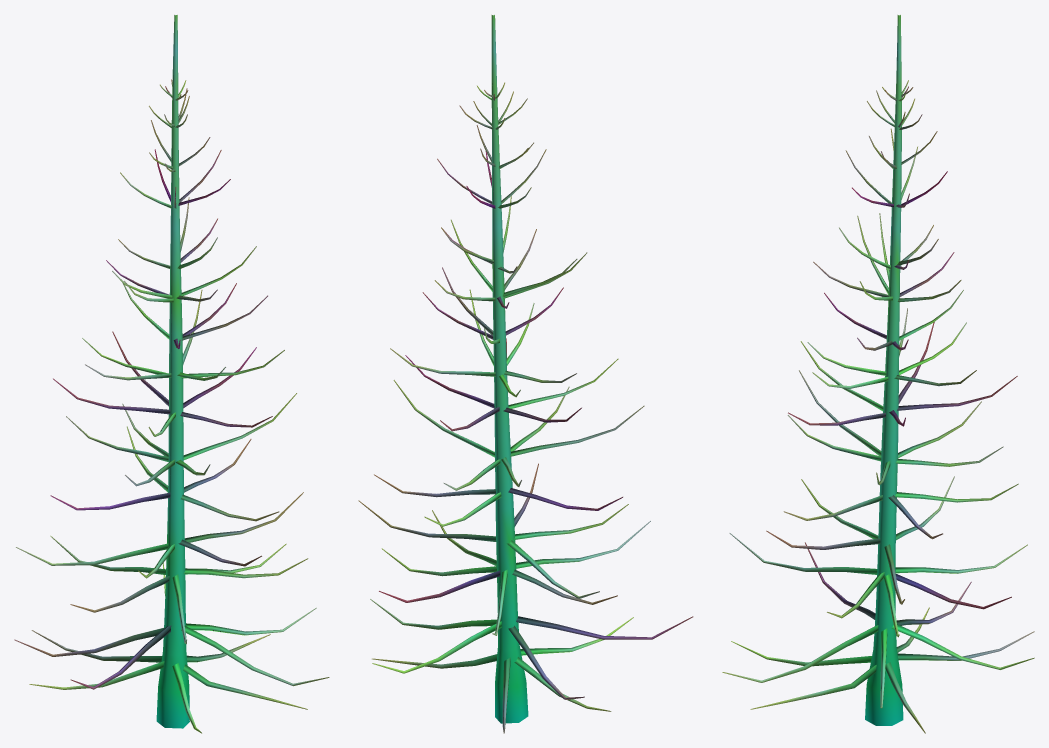
The model's file is spruce-young-a.glb.
3 renders of one model, left to right at view 1: azimuth 30°, elevation 25°; view 2: azimuth 150°, elevation 25°; view 3: azimuth 270°, elevation 25°, orthographic.
Visible parts, largest first — view 1: bark; view 2: bark; view 3: bark.
Boxes of the visible parts, <box> form: bark: <box>14,15,329,733</box>; bark: <box>358,15,693,733</box>; bark: <box>722,15,1034,733</box>.
Size of the model in its own units: 4.01 by 9.45 by 3.77.
